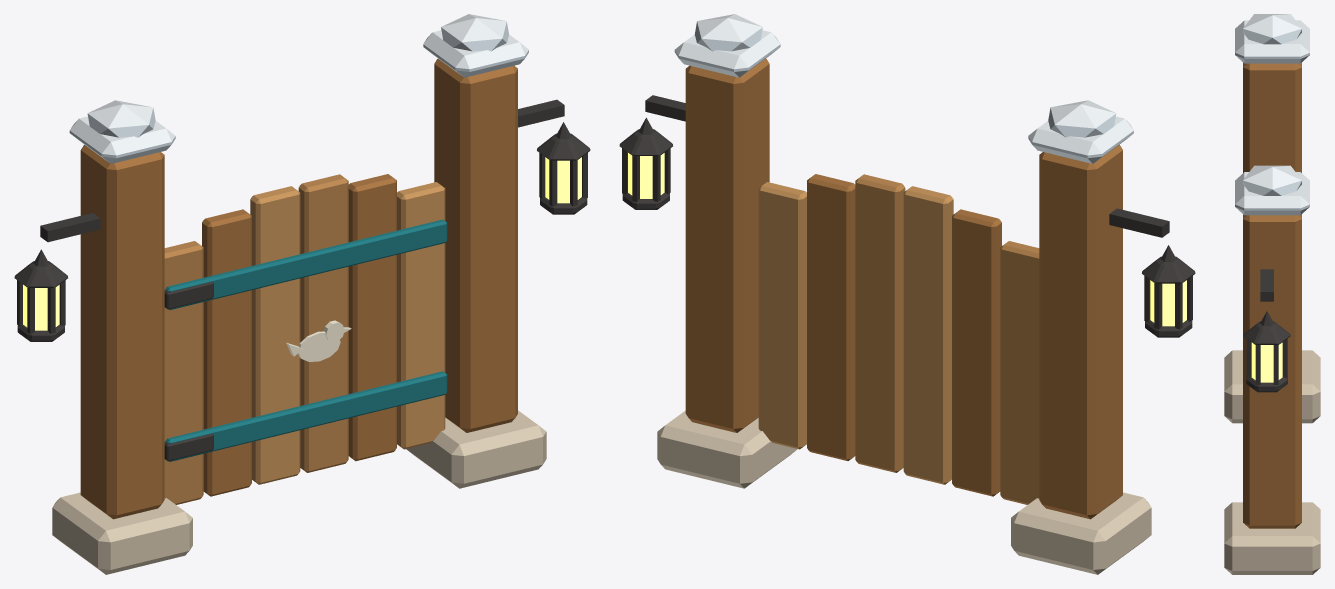
Rendered from court_gate.glb.
3 renders of one model, left to right at view 1: azimuth 30°, elevation 25°; view 2: azimuth 150°, elevation 25°; view 3: azimuth 270°, elevation 25°, orthographic. The views are drawn at different scales.
Parts seen in each view (by area): view 1: court_gate, part_gate_leaf; view 2: court_gate, part_gate_leaf; view 3: court_gate.
Boxes of the visible parts, x1,y1,x2,y2 form: court_gate: (14, 14, 590, 574); part_gate_leaf: (164, 174, 447, 504); court_gate: (619, 14, 1195, 574); part_gate_leaf: (758, 174, 1039, 504); court_gate: (1224, 14, 1320, 574).
Size of the model in its own units: 2.14 by 1.61 by 0.36.
